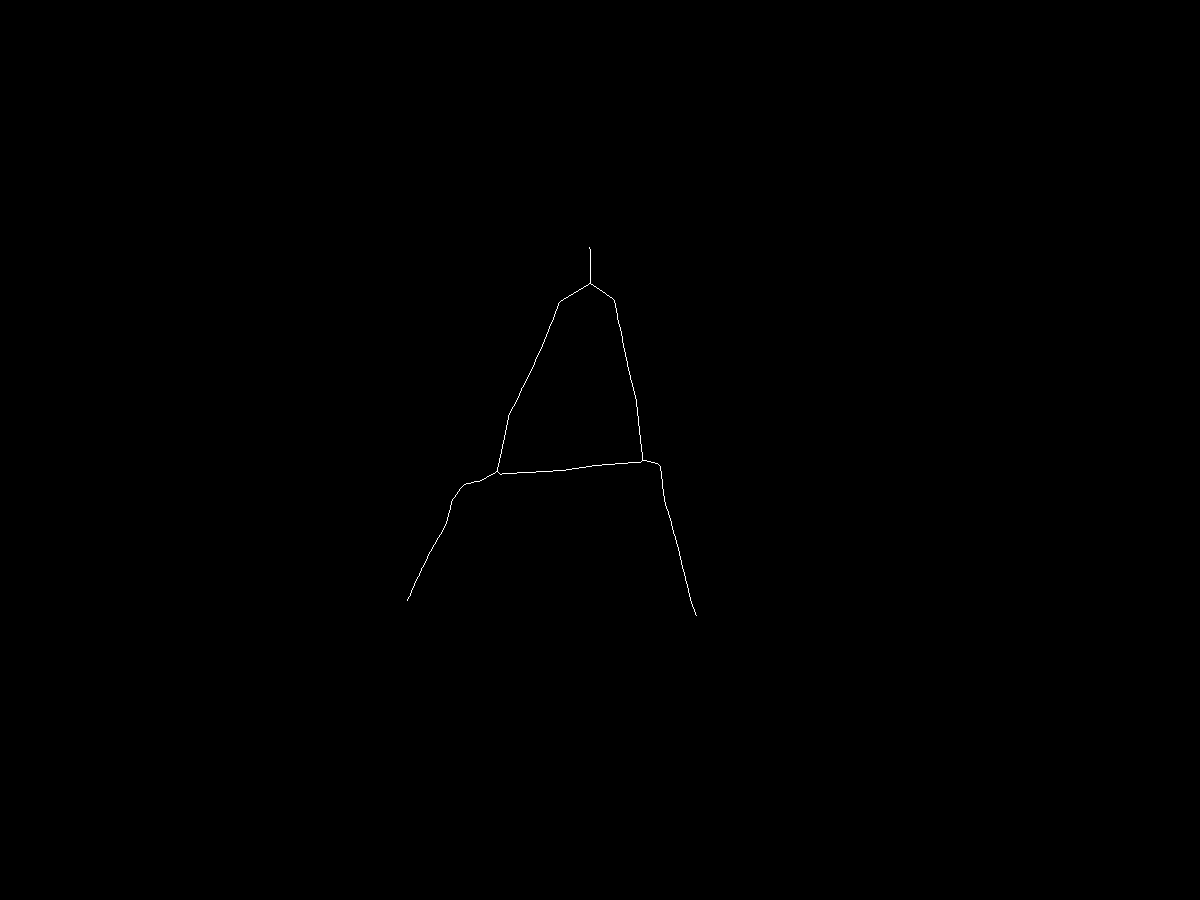dian1: (579, 280, 599, 300)
dian2: (490, 466, 506, 482)
dian3: (401, 590, 419, 608)
dian4: (635, 452, 649, 466)
dian5: (686, 608, 704, 626)
